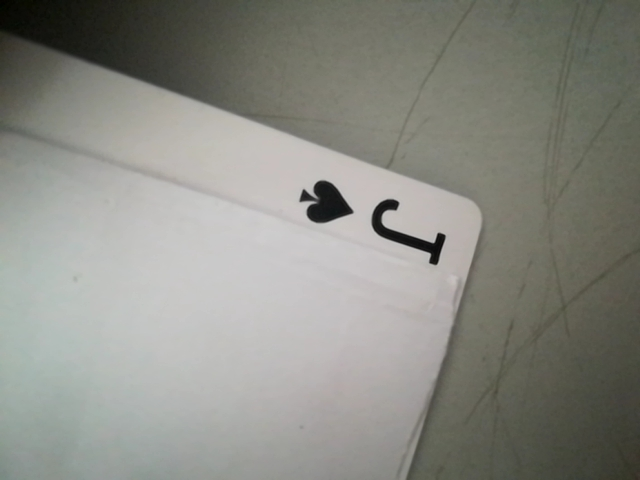ht j: (277, 176, 465, 261)
